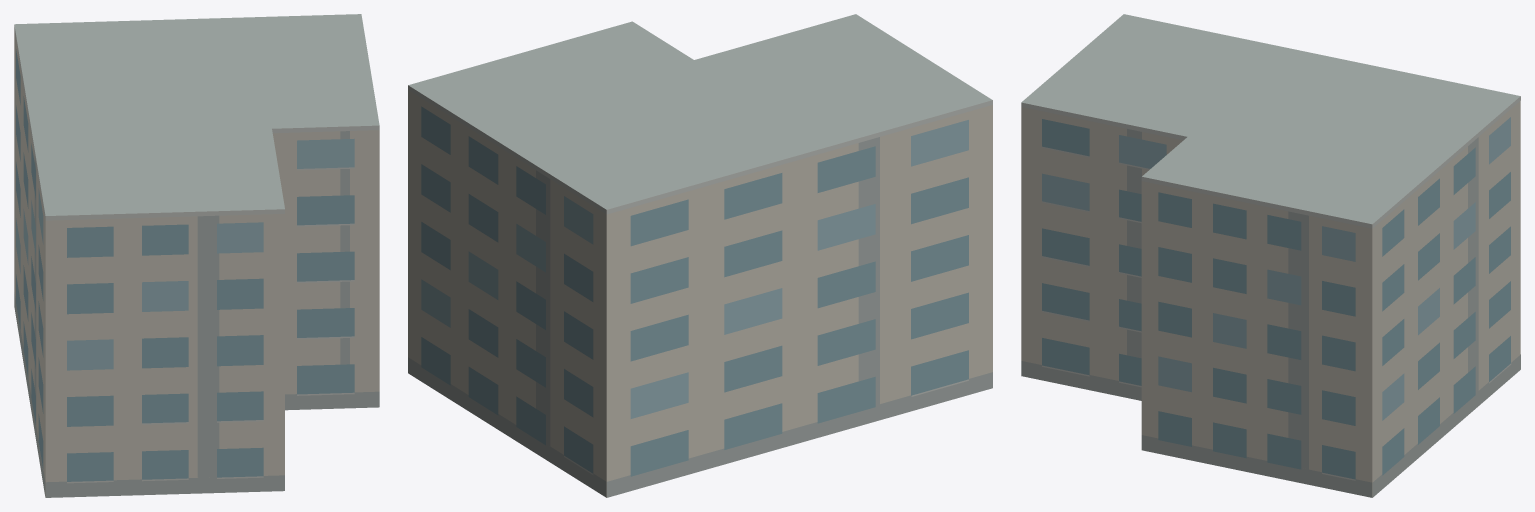
The model's file is residential-c1cdc9e9-09c2-4646-9ec9-44370f56f612.glb.
The picture shows the model from 3 angles, left to right: view 1: azimuth 30°, elevation 25°; view 2: azimuth 150°, elevation 25°; view 3: azimuth 270°, elevation 25°; orthographic projection. The views are drawn at different scales.
Visible parts, largest first — view 1: residential-c1cdc9e9-09c2-4646-9ec9-44370f56f612.tmp; view 2: residential-c1cdc9e9-09c2-4646-9ec9-44370f56f612.tmp; view 3: residential-c1cdc9e9-09c2-4646-9ec9-44370f56f612.tmp.
Boxes of the visible parts, left/top/right/bottom form: residential-c1cdc9e9-09c2-4646-9ec9-44370f56f612.tmp: left=14, top=14, right=379, bottom=497; residential-c1cdc9e9-09c2-4646-9ec9-44370f56f612.tmp: left=408, top=14, right=992, bottom=497; residential-c1cdc9e9-09c2-4646-9ec9-44370f56f612.tmp: left=1021, top=14, right=1520, bottom=497.
Size of the model in its own units: 24.74 by 15 by 24.84.
